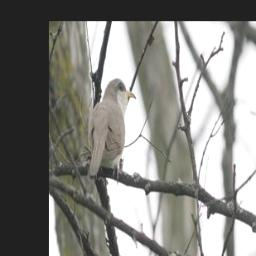Cuckoo: (86, 77, 135, 182)
